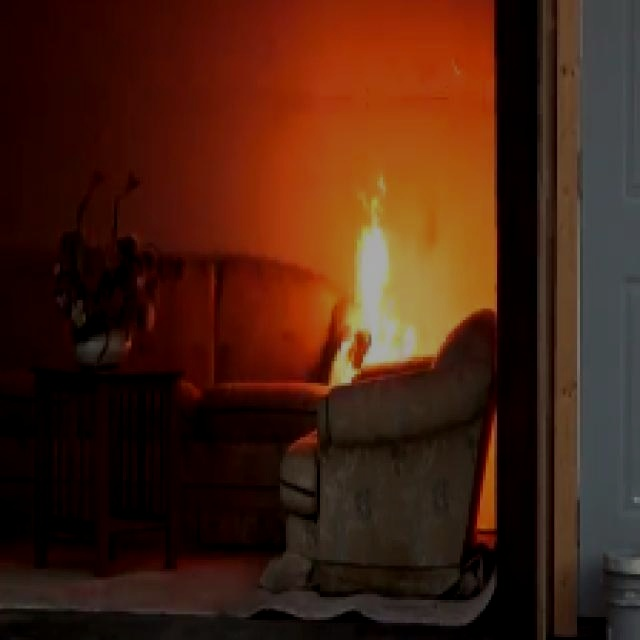fire: (333, 174, 429, 373)
